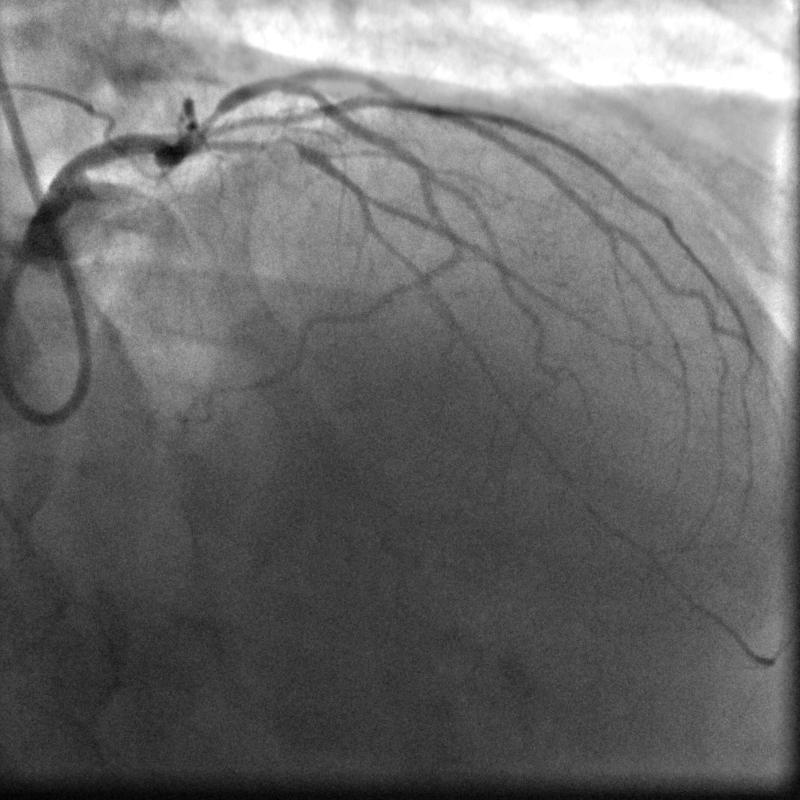Stenosis: (197, 102, 226, 144)
